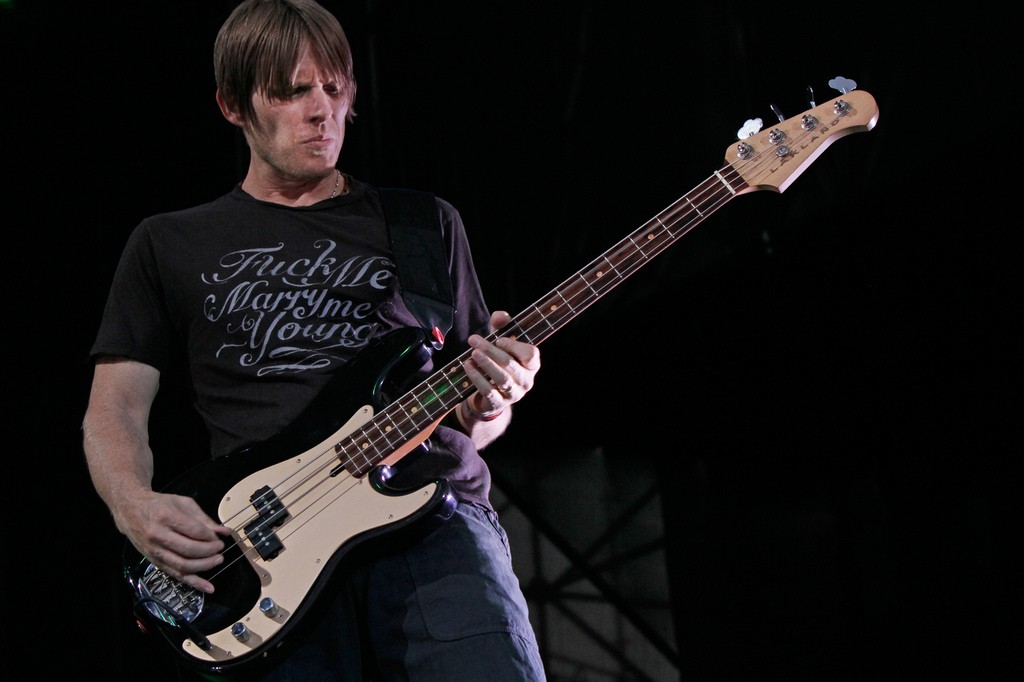guitar: (124, 78, 880, 677)
